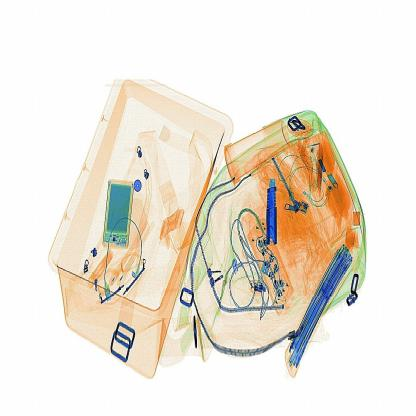pliers: (254, 175, 286, 248)
